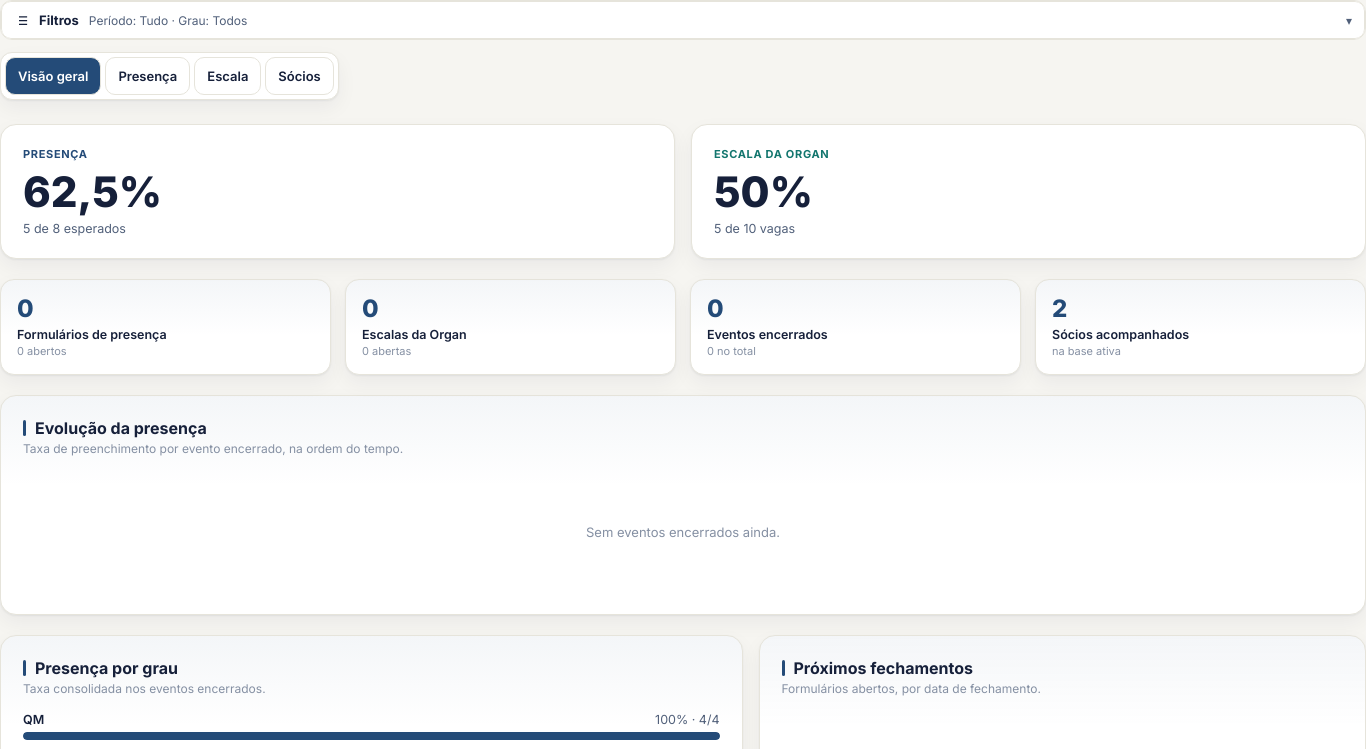
DashboardScreen › mostra rankings ao trocar para a aba Presença
Expected: the text "50%" is shown, left=714, top=166, right=813, bottom=217
Click the tab "Presença" at (148, 76), box left=105, top=57, right=190, bottom=95
(page scrolled)
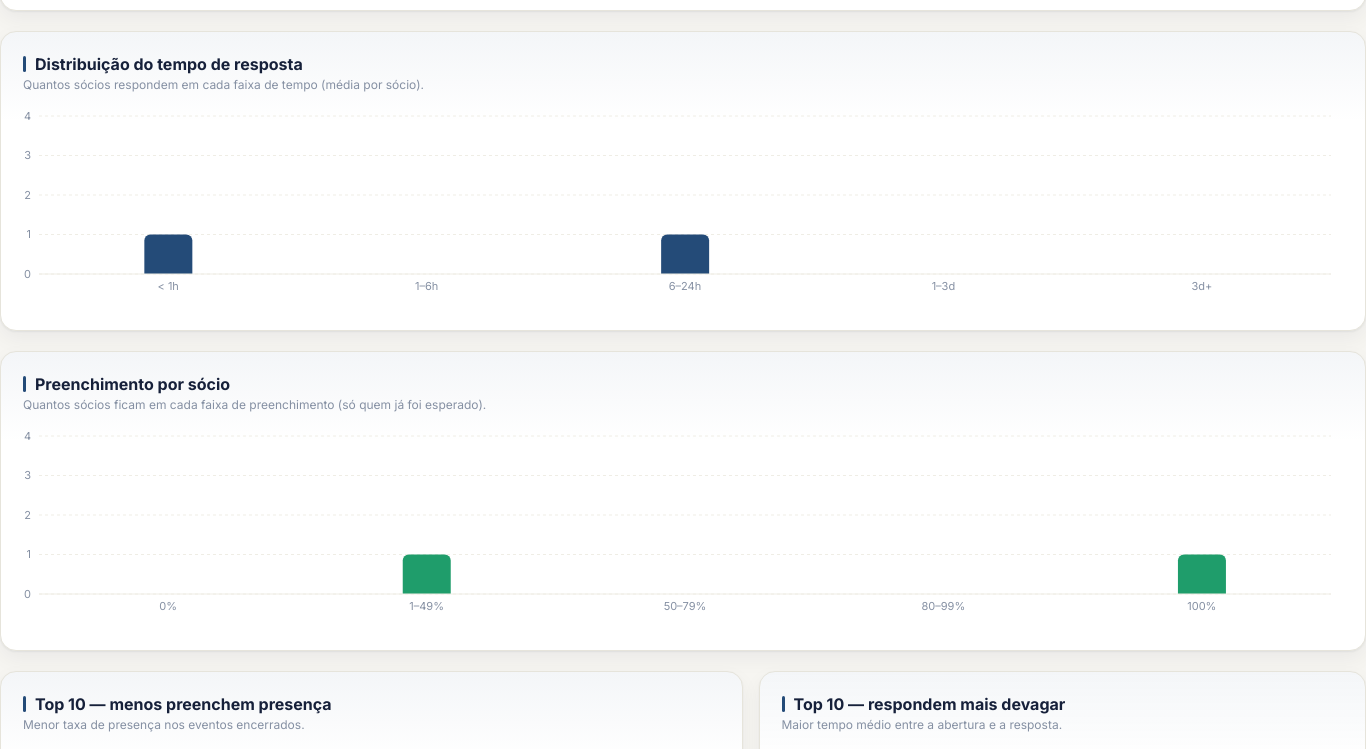
Expected: the text "Top 10 — menos preenchem presença" is shown, left=23, top=694, right=332, bottom=714
Expected: the text "Preenchimento por sócio" is shown, left=35, top=374, right=230, bottom=394
